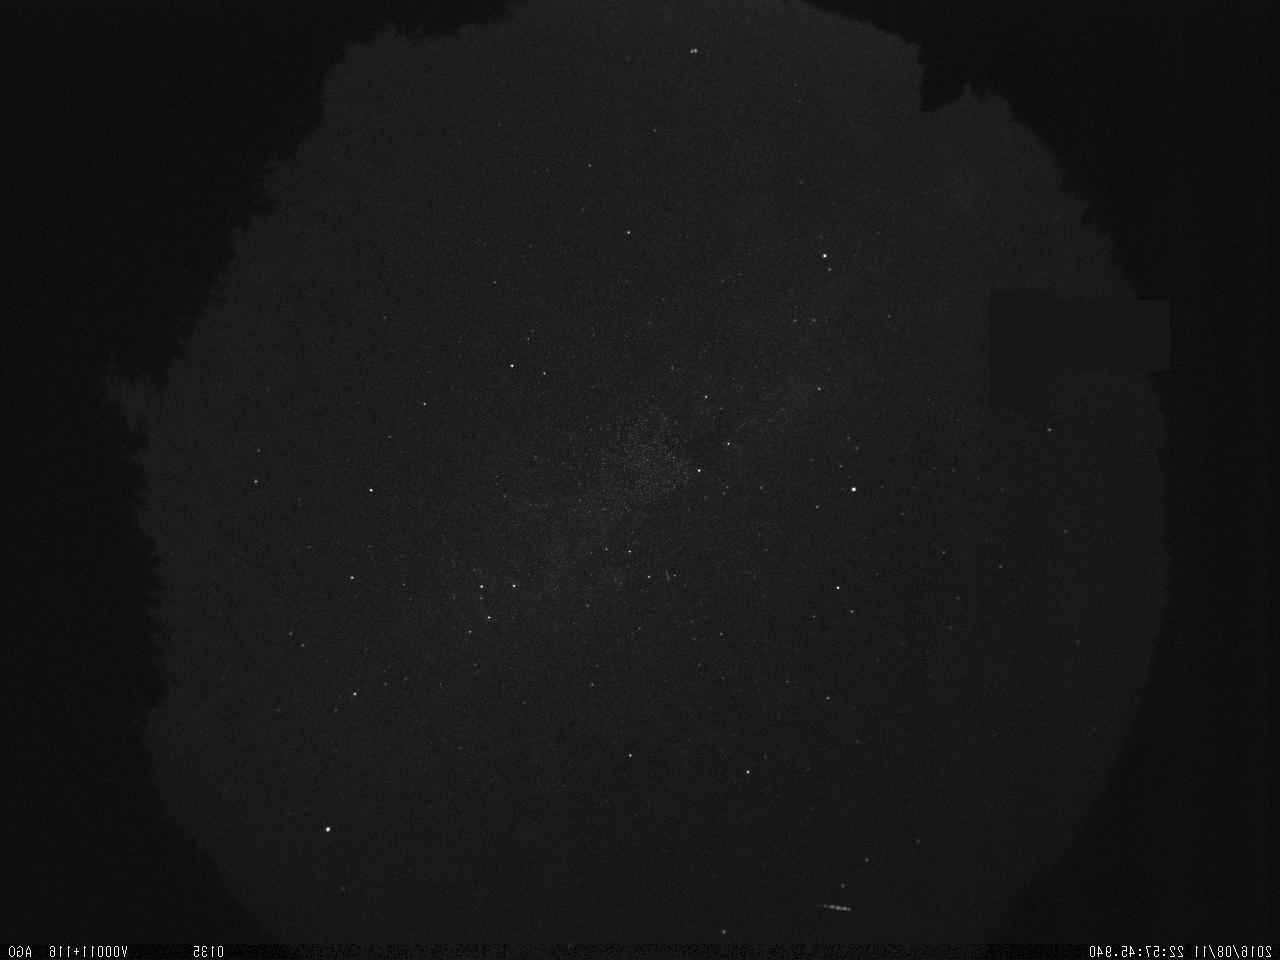meteor: (805, 878, 872, 938)
